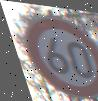Speed Limit -60-: (13, 11, 98, 99)
